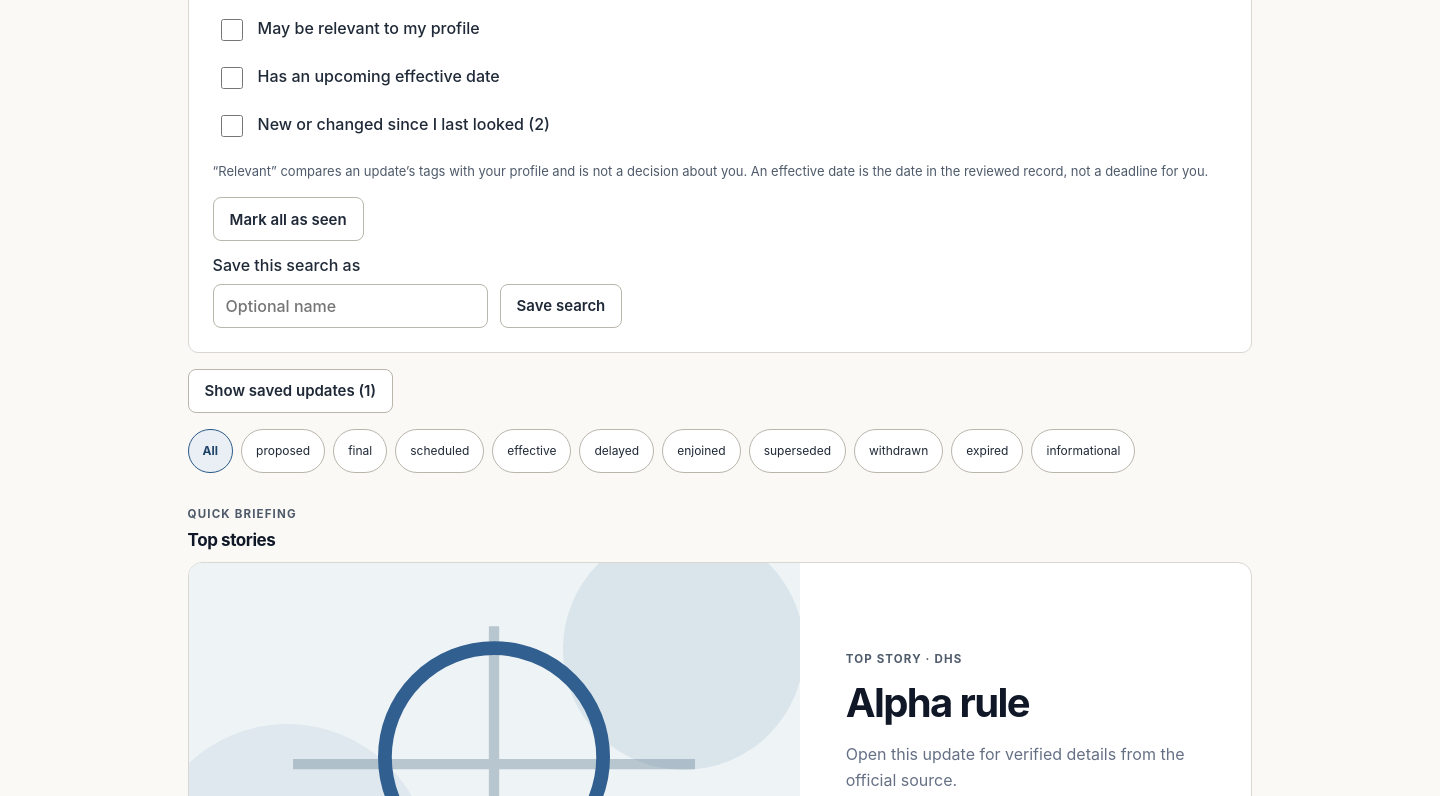
Test: students can narrow Updates to the ones they saved
The width and height of the screenshot is (1440, 796).
(page scrolled)
Step 1. Click the button "Show saved updates (1)" → (290, 391), box left=188, top=369, right=393, bottom=413
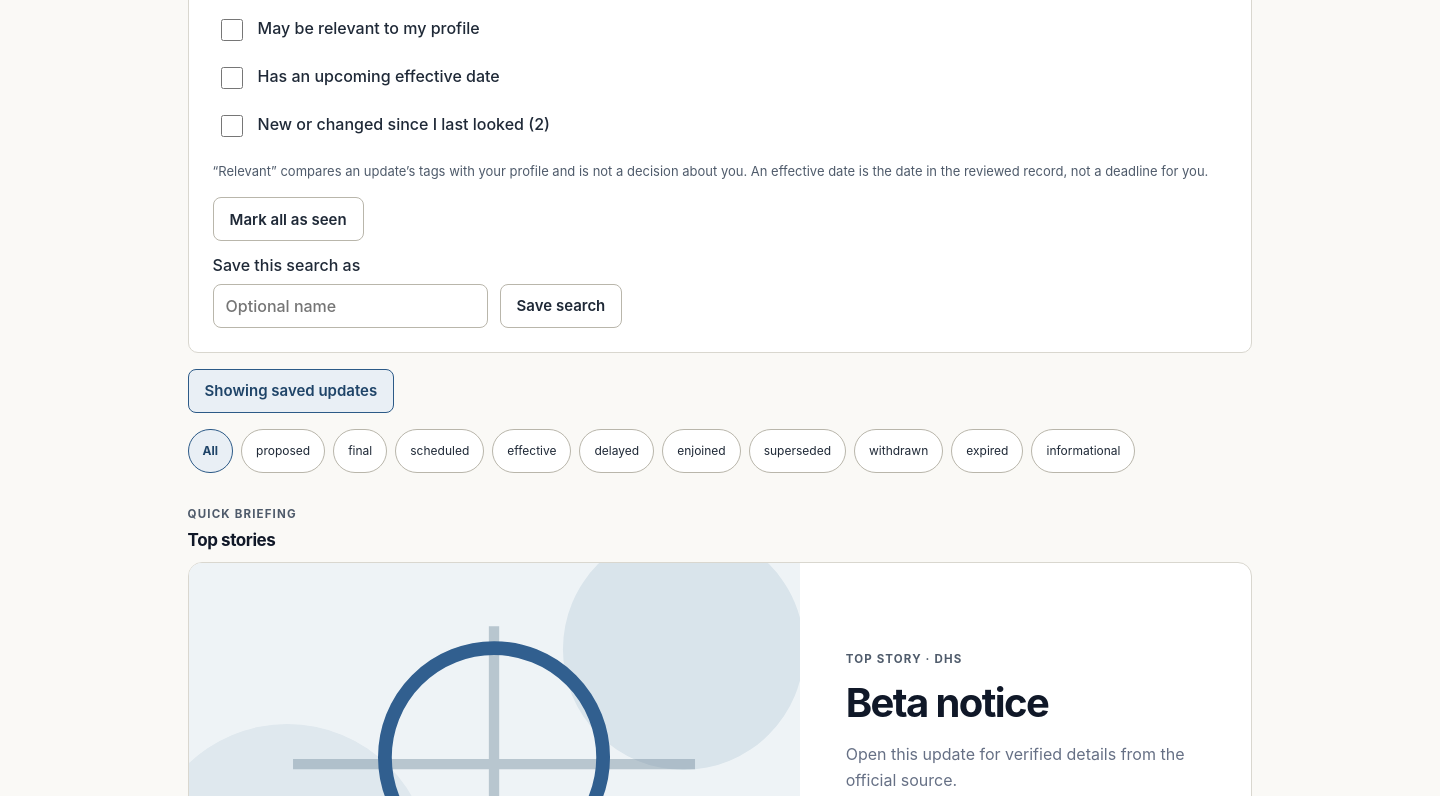
Expected: the heading "Beta notice" is shown, left=846, top=678, right=1048, bottom=727
Expected: the heading "Alpha rule" is gone
